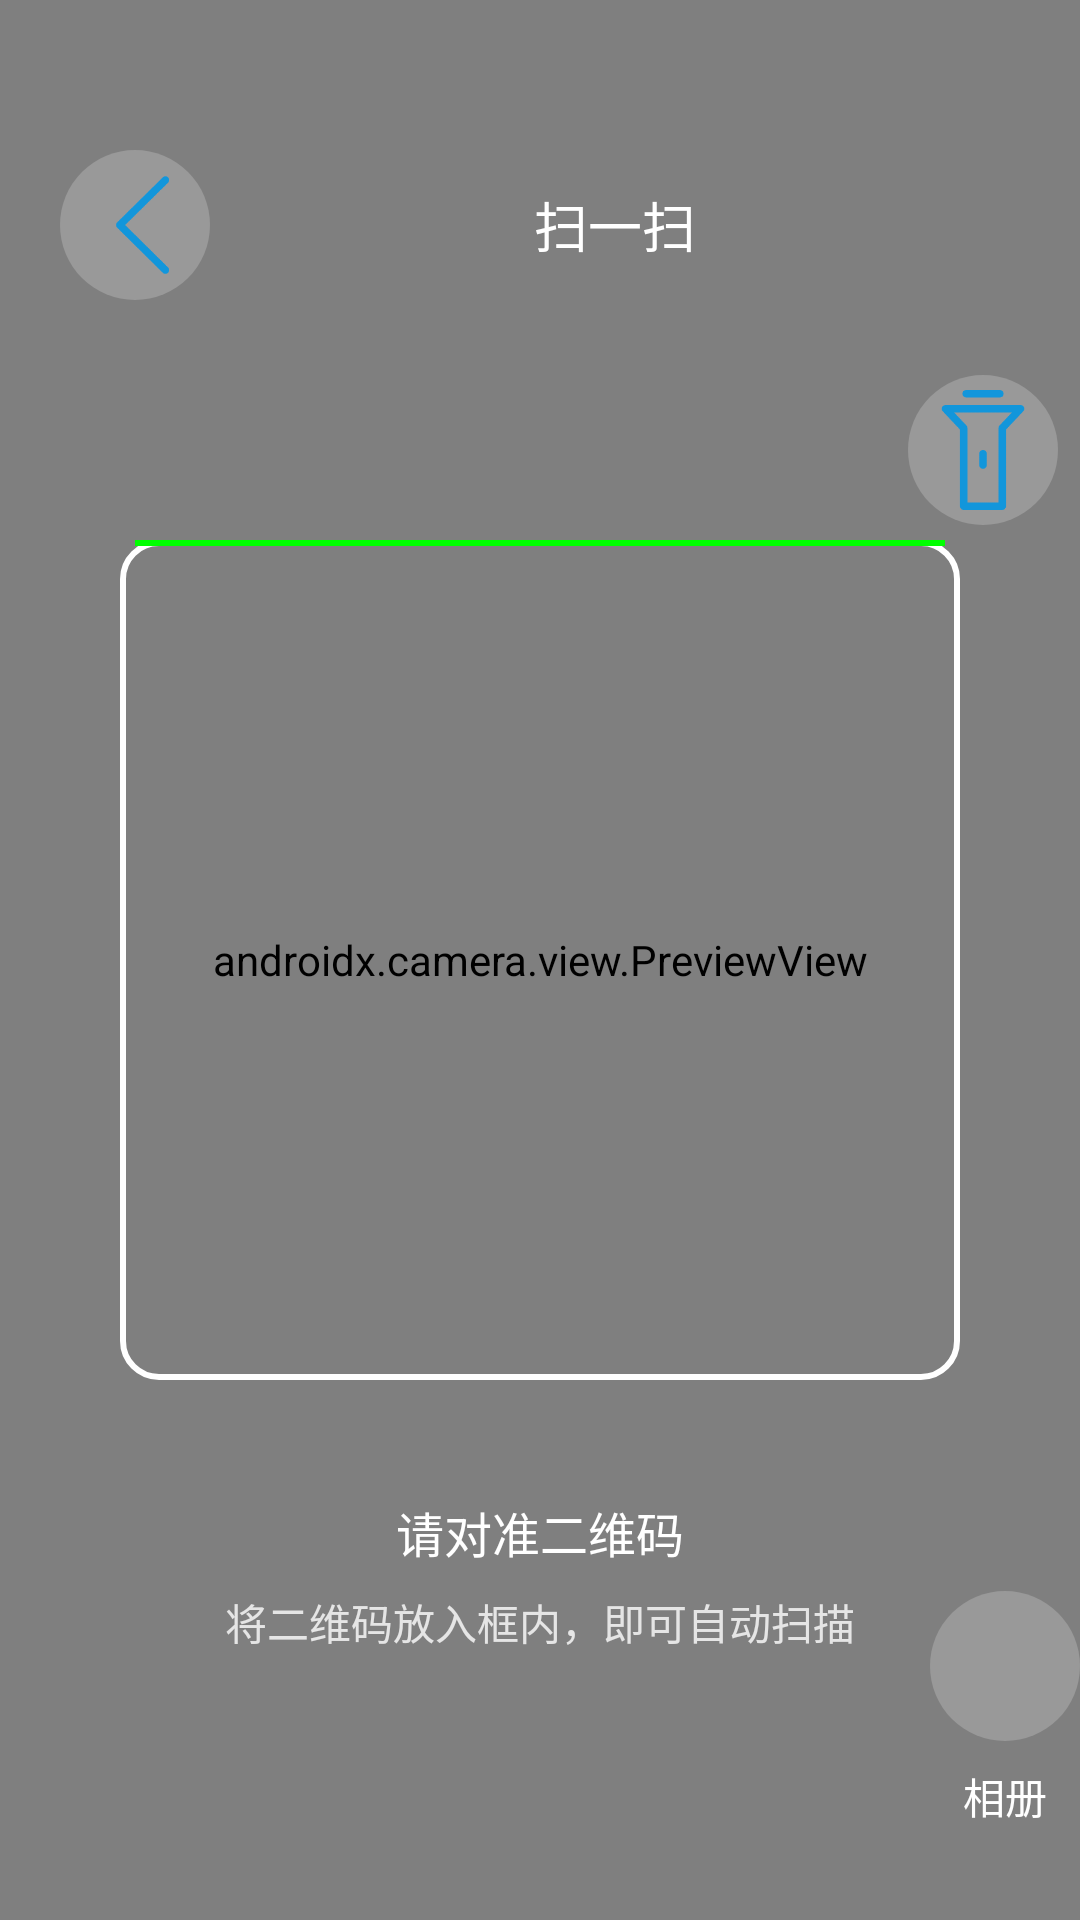

Where to tap for icons on this 1080w x 1920h app screen, as [x,y]:
back: [135,225]
